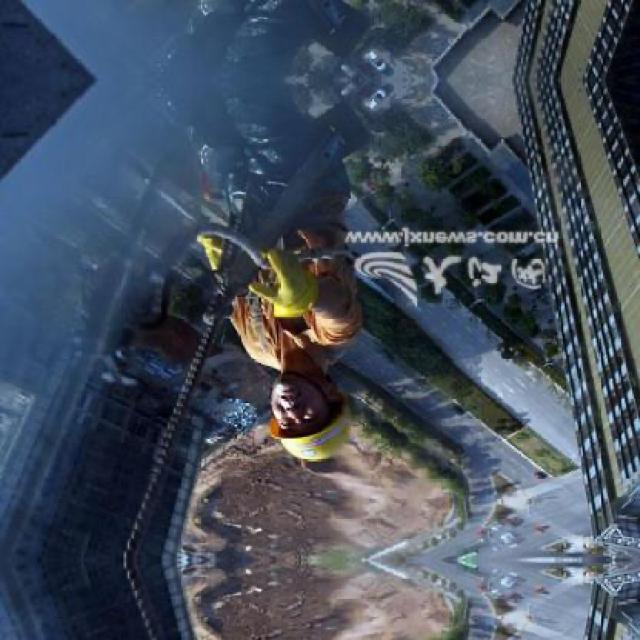con casco: (212, 347, 343, 491)
